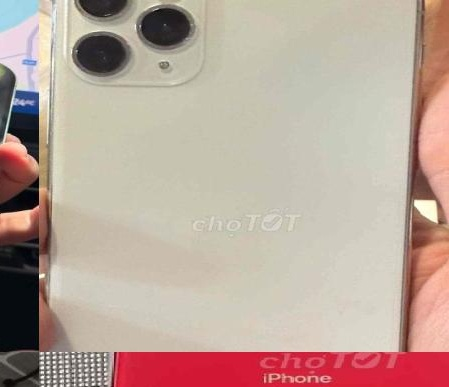scratch: (134, 377, 172, 387)
